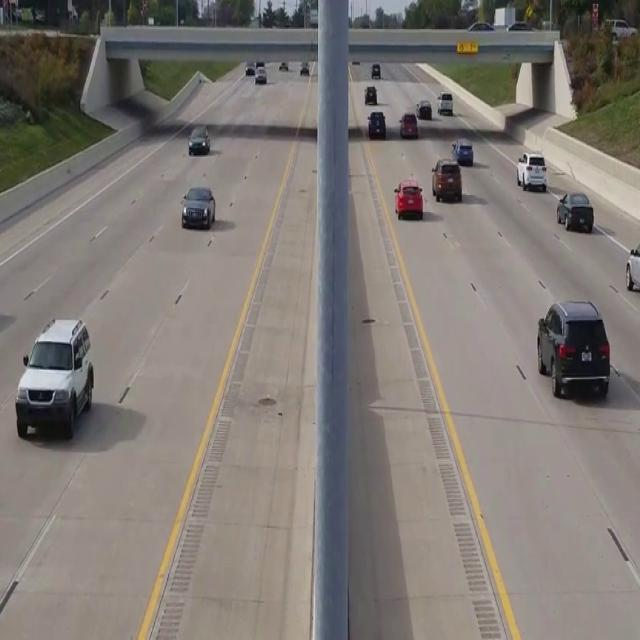car: (15, 316, 93, 440), (536, 299, 610, 399), (556, 191, 594, 233), (181, 186, 215, 229), (432, 158, 461, 202), (393, 178, 423, 218), (625, 237, 640, 306), (188, 125, 210, 154)
